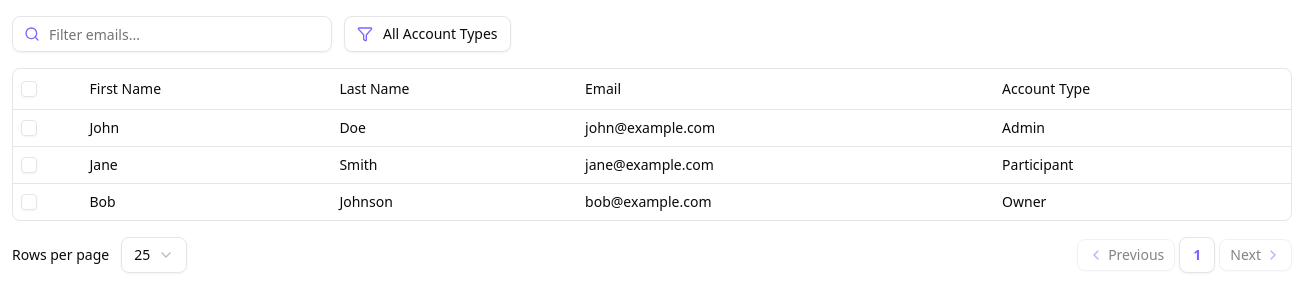
Test: ManageAccountsDataTable › row selection › shows delete and cancel actions after selecting at least one row
Click the checkbox named "Select row 0" at (29, 128), box x1=21 y1=120 x2=37 y2=136
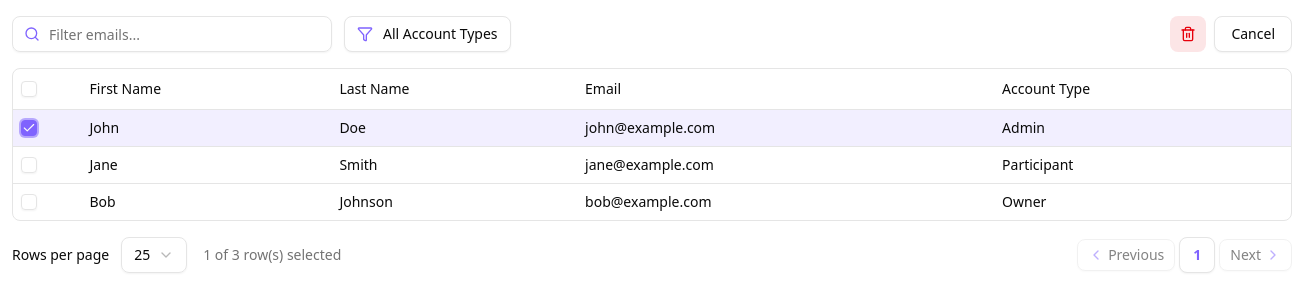
Expected: the button "Cancel" is shown, x1=1214 y1=16 x2=1292 y2=52
Expected: the 2nd button is shown, x1=1170 y1=16 x2=1206 y2=52
